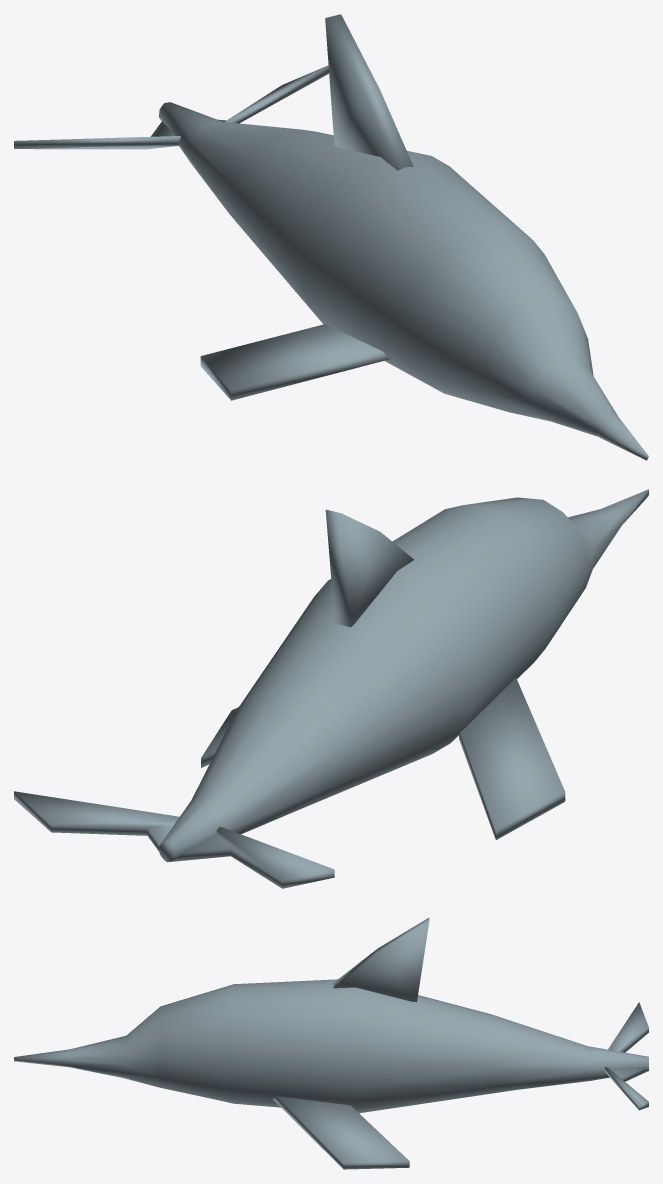
The model's file is Dolphin_LOD1.glb.
The picture shows the model from 3 angles, top to bottom: view 1: azimuth 30°, elevation 25°; view 2: azimuth 150°, elevation 25°; view 3: azimuth 270°, elevation 25°; orthographic projection. The views are drawn at different scales.
Visible parts, largest first — view 1: Dolphin_LOD1; view 2: Dolphin_LOD1; view 3: Dolphin_LOD1.
Part boxes in pixels (x1=…): Dolphin_LOD1: x1=14, y1=14, x2=648, y2=460; Dolphin_LOD1: x1=14, y1=489, x2=648, y2=888; Dolphin_LOD1: x1=14, y1=917, x2=648, y2=1169.
Size of the model in its own units: 1.04 by 0.905 by 2.6.
